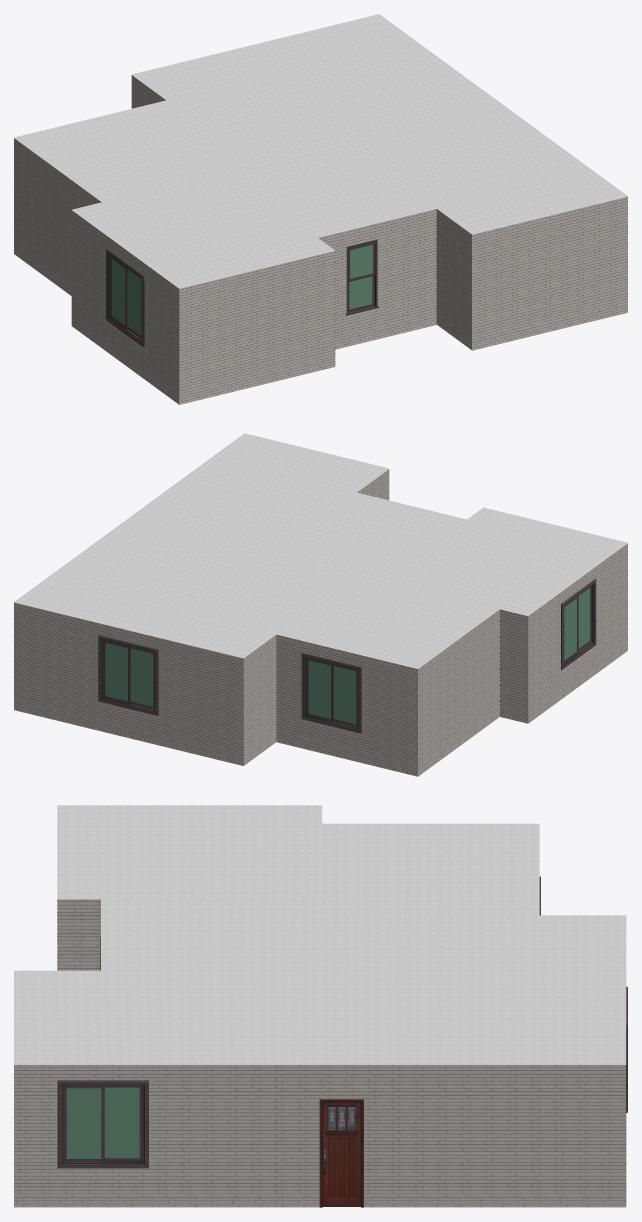
The model's file is house_0110300.FBX.
3 renders of one model, top to bottom at view 1: azimuth 30°, elevation 25°; view 2: azimuth 150°, elevation 25°; view 3: azimuth 270°, elevation 25°, orthographic. The views are drawn at different scales.
Parts seen in each view (by area): view 1: house_0110300_roof_100_00, house_0110300_outwall_100_07, house_0110300_outwall_100_011, house_0110300_outwall_100_09, house_0110300_outwall_100_06, house_0110300_outwall_100_04, house_0110300_outwall_100_010, house_0110300_floor_103_00, house_0110300_floor_104_00, house_0110300_tcx_100_07, house_0110300_tcx_100_011, house_0110300_tcx_100_06 (+2 smaller); view 2: house_0110300_roof_100_00, house_0110300_outwall_100_01, house_0110300_outwall_100_03, house_0110300_outwall_100_04, house_0110300_outwall_100_06, house_0110300_floor_101_00, house_0110300_floor_102_00, house_0110300_outwall_100_02, house_0110300_outwall_100_05, house_0110300_floor_103_00, house_0110300_tcx_100_01, house_0110300_tcx_100_03 (+3 smaller); view 3: house_0110300_roof_100_00, house_0110300_outwall_100_00, house_0110300_floor_105_00, house_0110300_tcx_100_00, house_0110300_outwall_101_00, house_0110300_outwall_100_08, house_0110300_outedge_100_00.
Part boxes in pixels (x1=…): house_0110300_roof_100_00: x1=14, y1=14, x2=627, y2=288; house_0110300_outwall_100_07: x1=179, y1=251, x2=335, y2=396; house_0110300_outwall_100_011: x1=472, y1=196, x2=627, y2=342; house_0110300_outwall_100_09: x1=318, y1=209, x2=436, y2=341; house_0110300_outwall_100_06: x1=71, y1=210, x2=179, y2=396; house_0110300_outwall_100_04: x1=14, y1=138, x2=101, y2=287; house_0110300_outwall_100_010: x1=436, y1=209, x2=471, y2=342; house_0110300_floor_103_00: x1=106, y1=248, x2=144, y2=347; house_0110300_floor_104_00: x1=345, y1=239, x2=378, y2=315; house_0110300_tcx_100_07: x1=179, y1=359, x2=335, y2=404; house_0110300_tcx_100_011: x1=472, y1=304, x2=627, y2=350; house_0110300_tcx_100_06: x1=71, y1=318, x2=179, y2=404; house_0110300_roof_100_00: x1=14, y1=433, x2=627, y2=668; house_0110300_outwall_100_01: x1=14, y1=602, x2=243, y2=758; house_0110300_outwall_100_03: x1=276, y1=634, x2=417, y2=769; house_0110300_outwall_100_04: x1=418, y1=609, x2=499, y2=768; house_0110300_outwall_100_06: x1=528, y1=543, x2=627, y2=715; house_0110300_floor_101_00: x1=98, y1=635, x2=158, y2=715; house_0110300_floor_102_00: x1=301, y1=652, x2=361, y2=733; house_0110300_outwall_100_02: x1=243, y1=635, x2=276, y2=758; house_0110300_outwall_100_05: x1=500, y1=609, x2=528, y2=716; house_0110300_floor_103_00: x1=561, y1=578, x2=596, y2=670; house_0110300_tcx_100_01: x1=14, y1=702, x2=243, y2=765; house_0110300_tcx_100_03: x1=276, y1=735, x2=417, y2=776; house_0110300_roof_100_00: x1=14, y1=805, x2=626, y2=1063; house_0110300_outwall_100_00: x1=14, y1=1064, x2=626, y2=1197; house_0110300_floor_105_00: x1=57, y1=1080, x2=148, y2=1168; house_0110300_tcx_100_00: x1=14, y1=1197, x2=626, y2=1207; house_0110300_outwall_101_00: x1=319, y1=1099, x2=363, y2=1207; house_0110300_outwall_100_08: x1=57, y1=899, x2=100, y2=970; house_0110300_outedge_100_00: x1=14, y1=1064, x2=625, y2=1064.
Bounding box in the file's own units: 1134 × 291 × 1131.
Materials: 59 (58 with a texture image).
